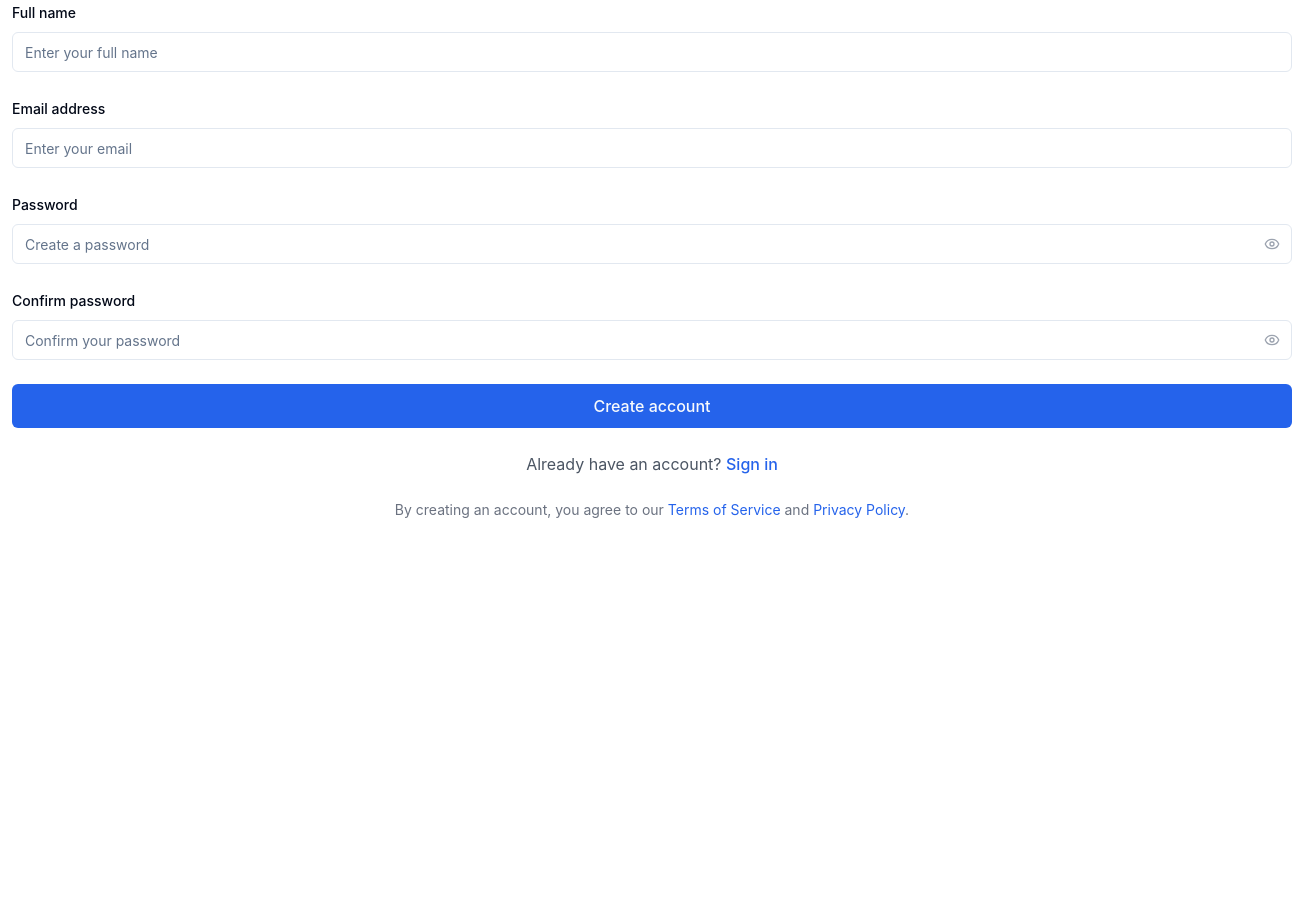
RegisterForm › validates password strength requirements
Type "weak" into the password field labelled "Password" at (652, 244), box [12,224,1292,264]
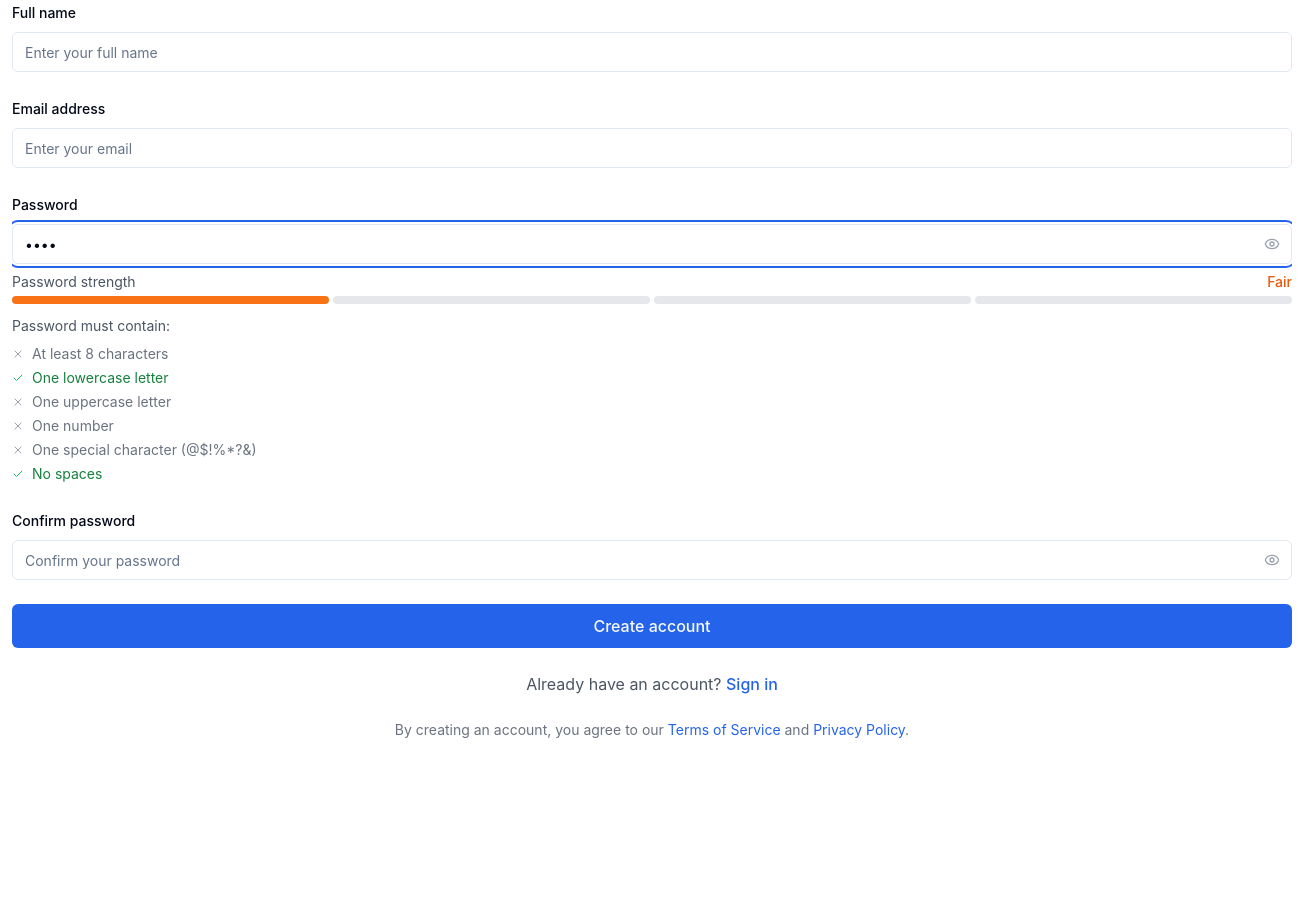
Click the button "Create account" at (652, 626), box [12,604,1292,648]
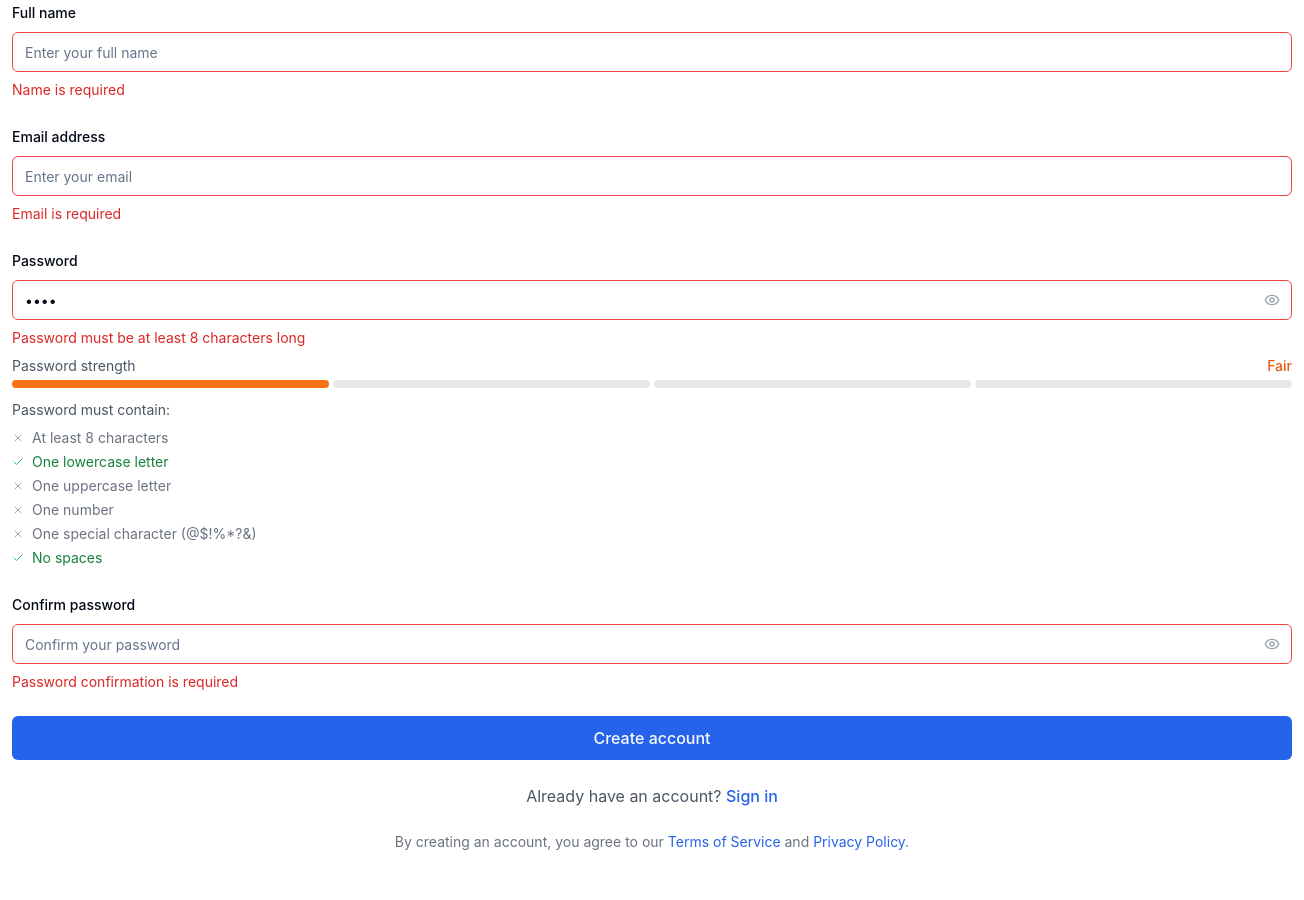
Expected: the text "Password must be at least 8 characters long" is shown, [12,329,305,346]
